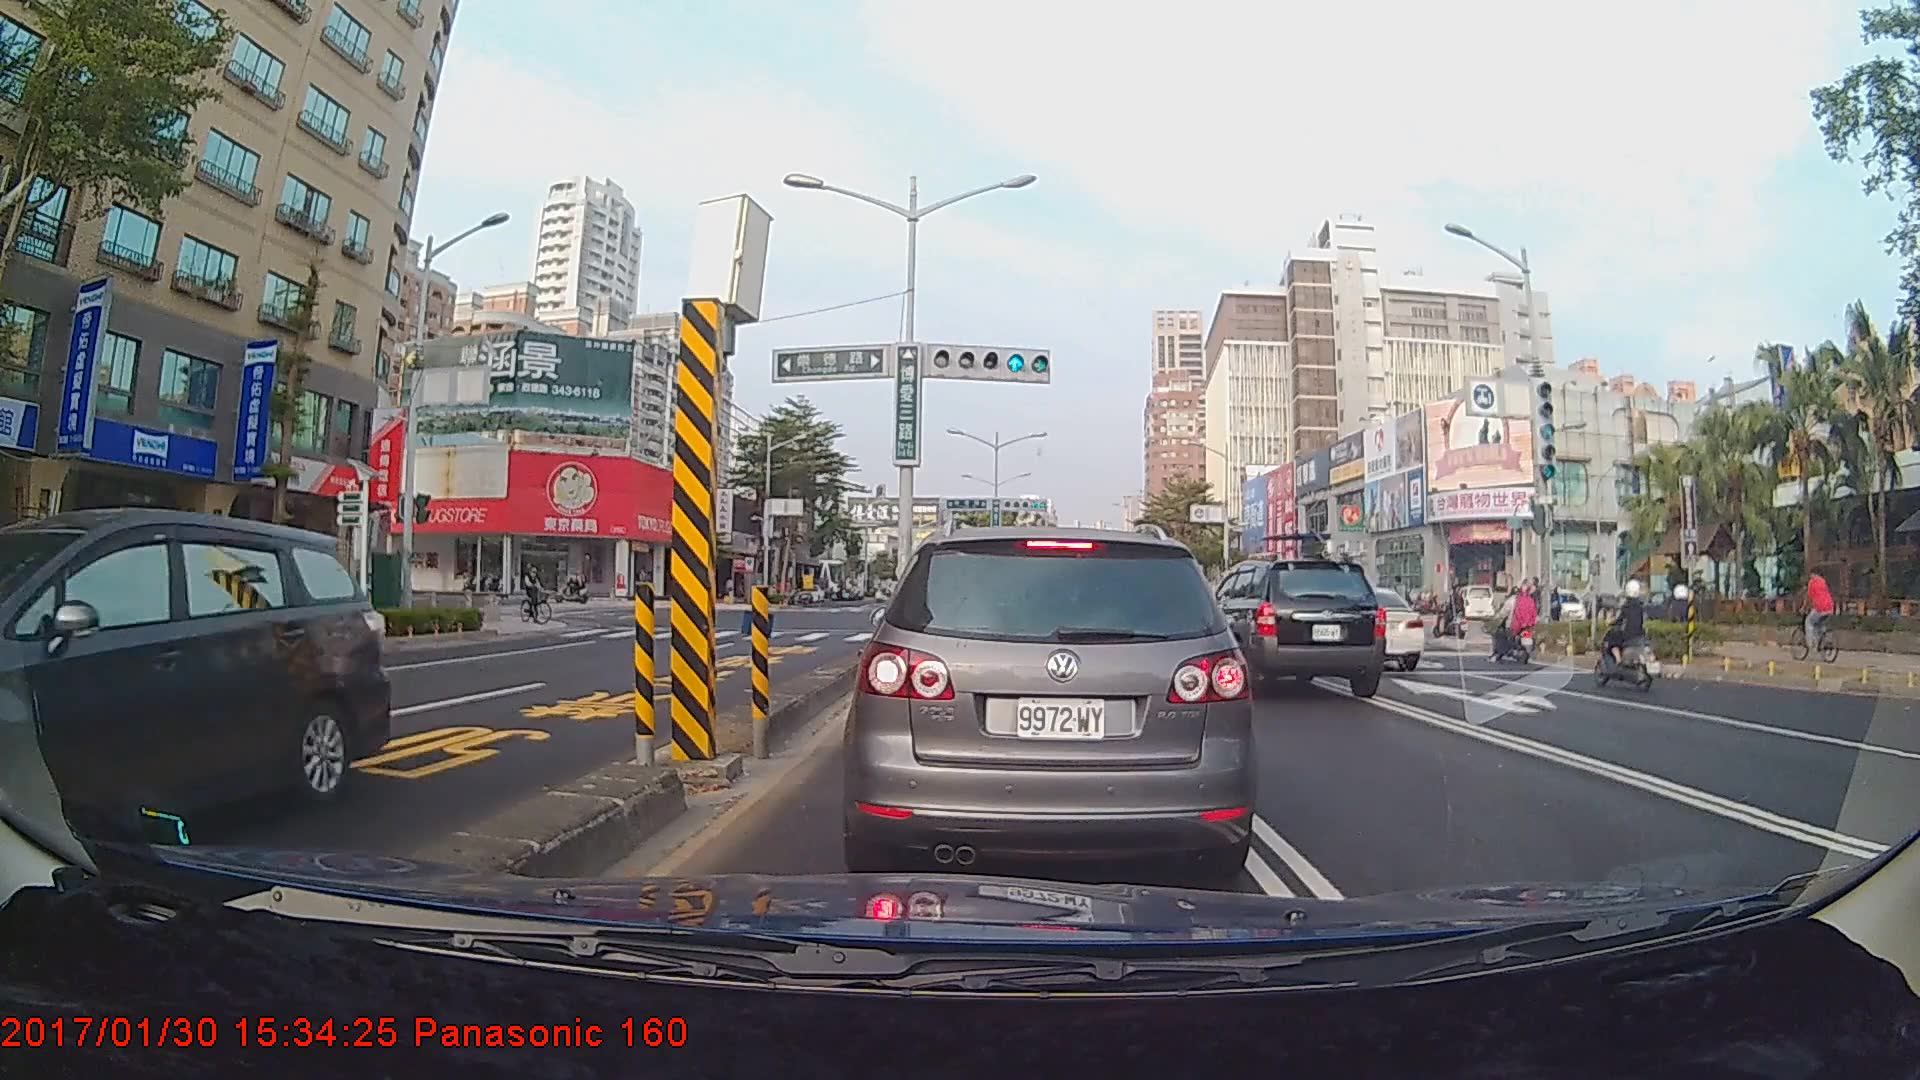pedestrian: (1584, 581, 1605, 640)
rider: (1597, 576, 1659, 701), (1485, 582, 1548, 668), (1785, 567, 1837, 661), (1650, 578, 1704, 654), (518, 559, 561, 629), (1436, 582, 1473, 646), (549, 563, 595, 611)
vehicle: (0, 504, 392, 915), (855, 524, 1247, 872), (1176, 551, 1389, 697), (1298, 584, 1424, 670)
